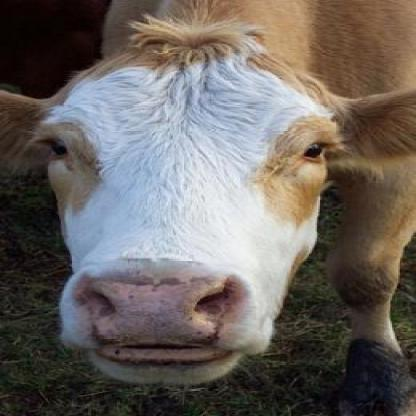lower: (139, 363, 179, 377)
mouth: (64, 262, 264, 386)
upper: (126, 297, 150, 315)
